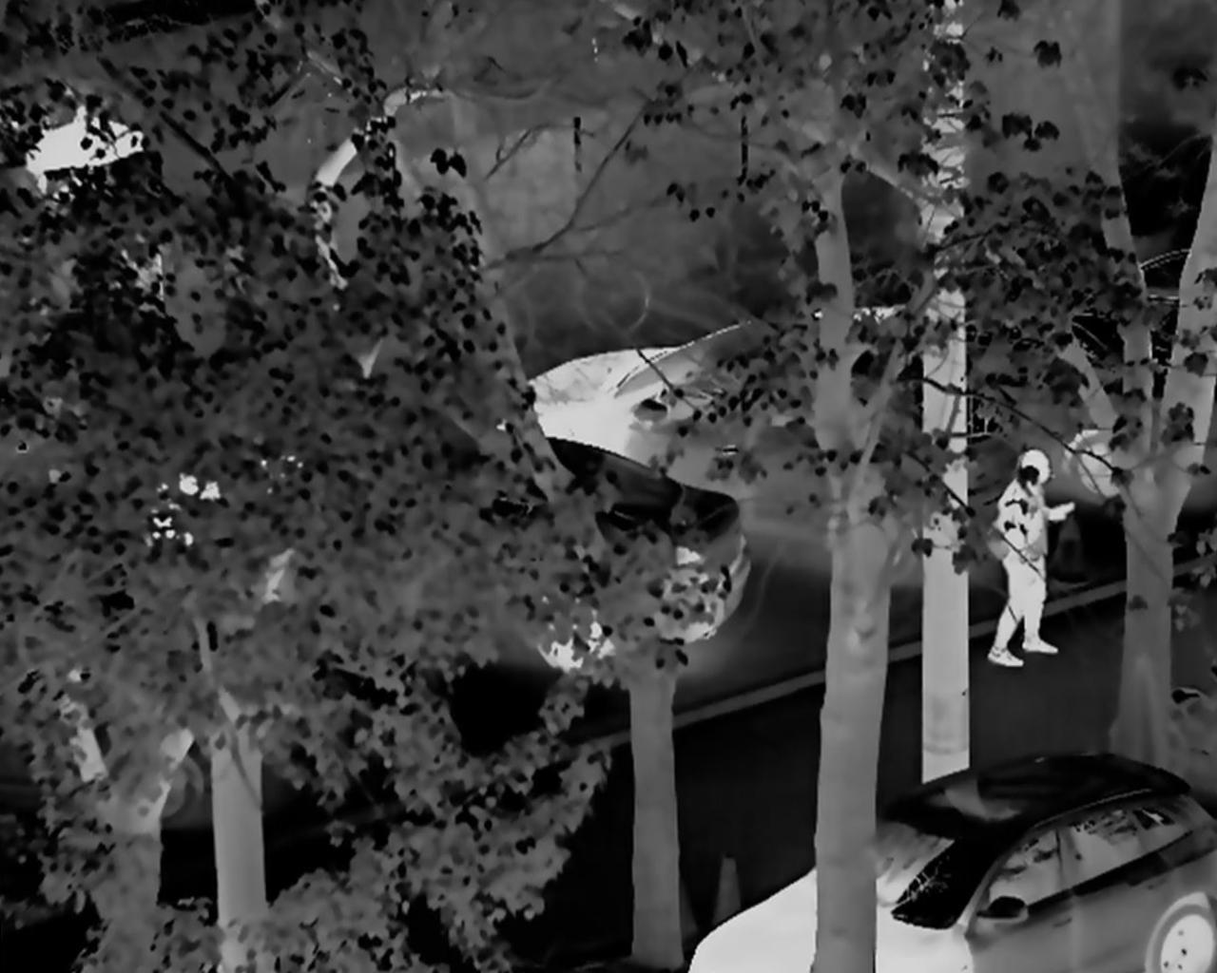person: (982, 446, 1078, 674)
